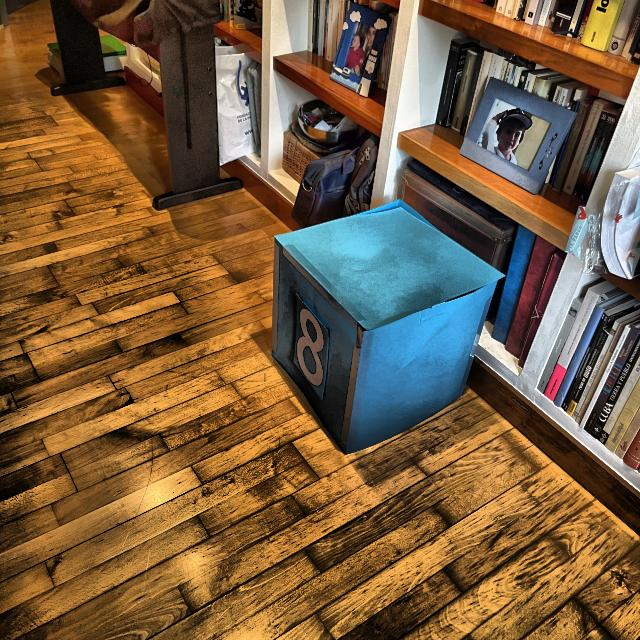blue box: (270, 197, 490, 458)
eight: (290, 301, 334, 392)
